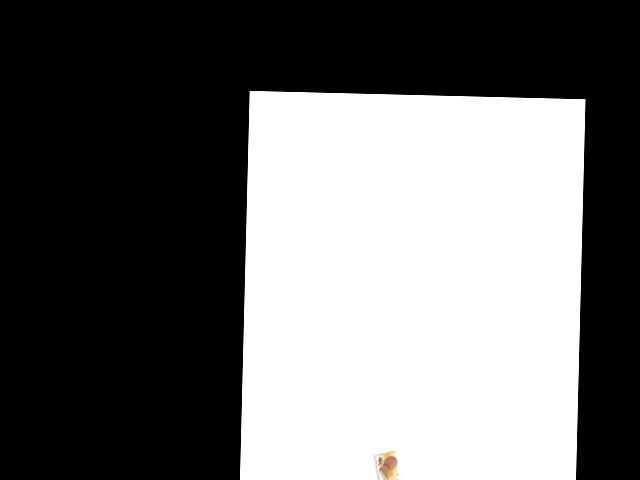chocolate: (377, 447, 403, 480)
